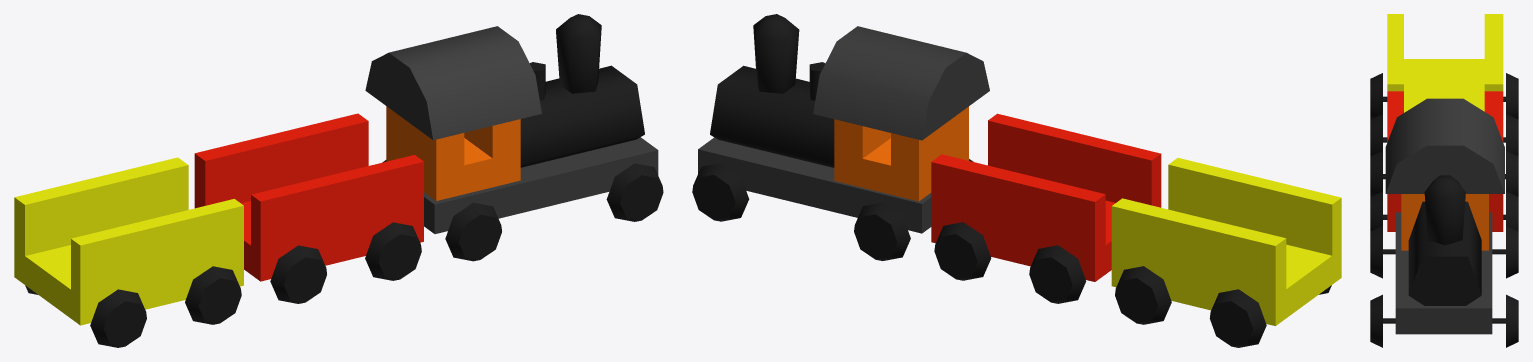
File: Train_B.FBX
The picture shows the model from 3 angles, left to right: view 1: azimuth 30°, elevation 25°; view 2: azimuth 150°, elevation 25°; view 3: azimuth 270°, elevation 25°; orthographic projection. The views are drawn at different scales.
Parts seen in each view (by area): view 1: Train, Train_Car_B, Train_Car_A; view 2: Train, Train_Car_B, Train_Car_A; view 3: Train, Train_Car_B, Train_Car_A.
Boxes of the visible parts, x1=… form: Train: x1=365, y1=14, x2=663, y2=261; Train_Car_B: x1=14, y1=157, x2=243, y2=347; Train_Car_A: x1=194, y1=113, x2=423, y2=303; Train: x1=692, y1=14, x2=989, y2=260; Train_Car_B: x1=1111, y1=158, x2=1341, y2=347; Train_Car_A: x1=931, y1=113, x2=1161, y2=303; Train: x1=1370, y1=98, x2=1518, y2=347; Train_Car_B: x1=1370, y1=14, x2=1518, y2=155; Train_Car_A: x1=1370, y1=91, x2=1518, y2=231.
Bounding box in the file's own units: 189 × 57.11 × 47.21.
